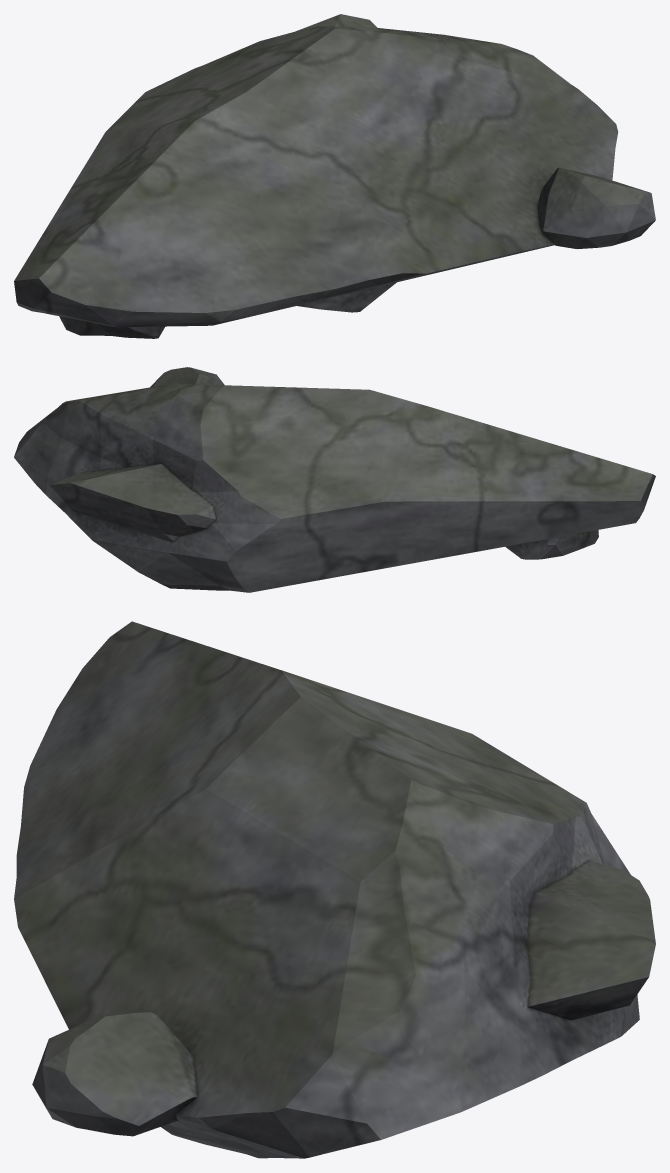
File: fels3.glb
The picture shows the model from 3 angles, top to bottom: view 1: azimuth 30°, elevation 25°; view 2: azimuth 150°, elevation 25°; view 3: azimuth 270°, elevation 25°; orthographic projection. The views are drawn at different scales.
Parts seen in each view (by area): view 1: fels3; view 2: fels3; view 3: fels3.
Boxes of the visible parts, left/top/right/bottom form: fels3: left=14, top=14, right=655, bottom=338; fels3: left=14, top=367, right=655, bottom=592; fels3: left=14, top=621, right=655, bottom=1158.
Size of the model in its own units: 2.76 by 0.829 by 1.68.
1 material, 1 textured.
